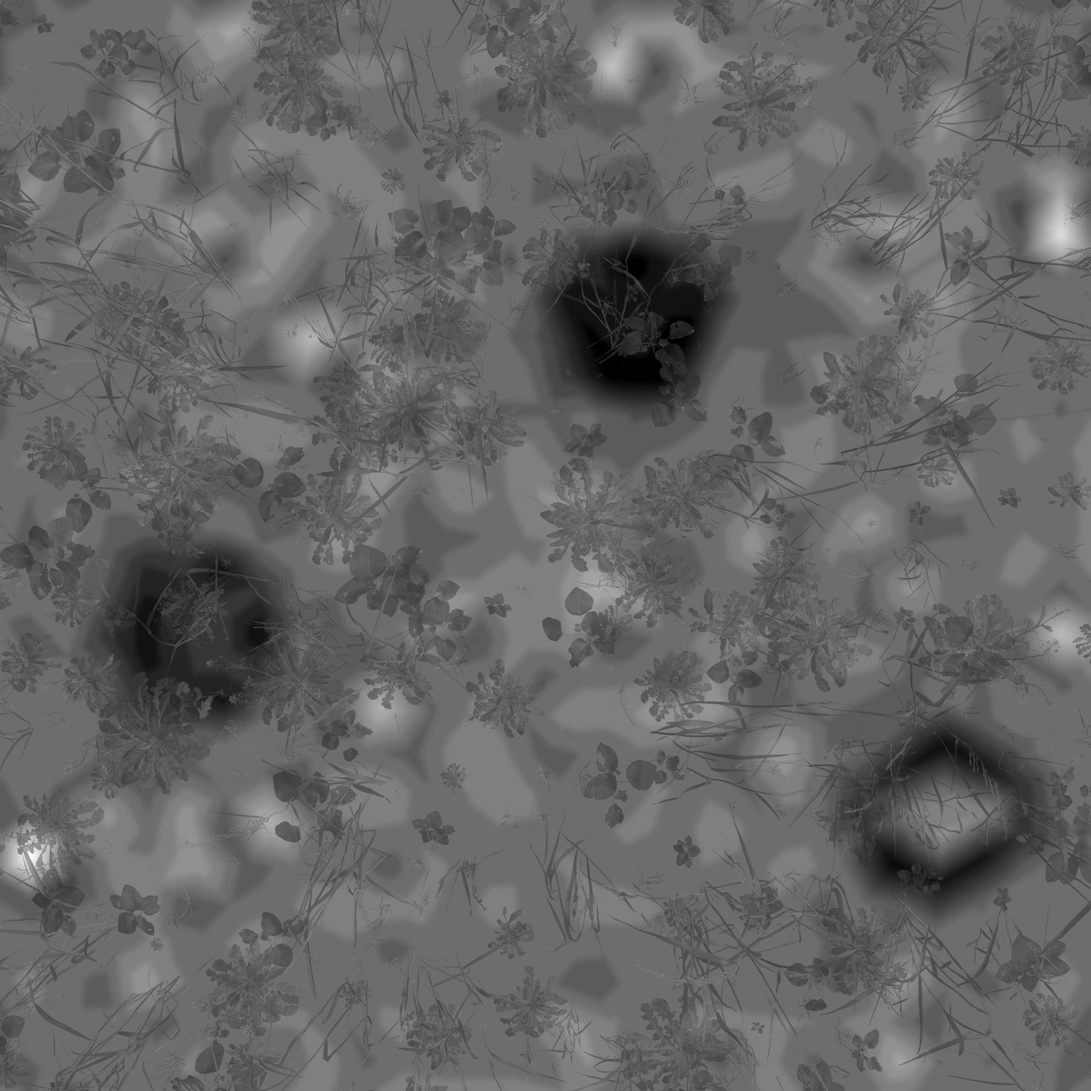landmine: (850, 728, 1045, 916), (89, 545, 295, 719), (551, 233, 709, 396)
